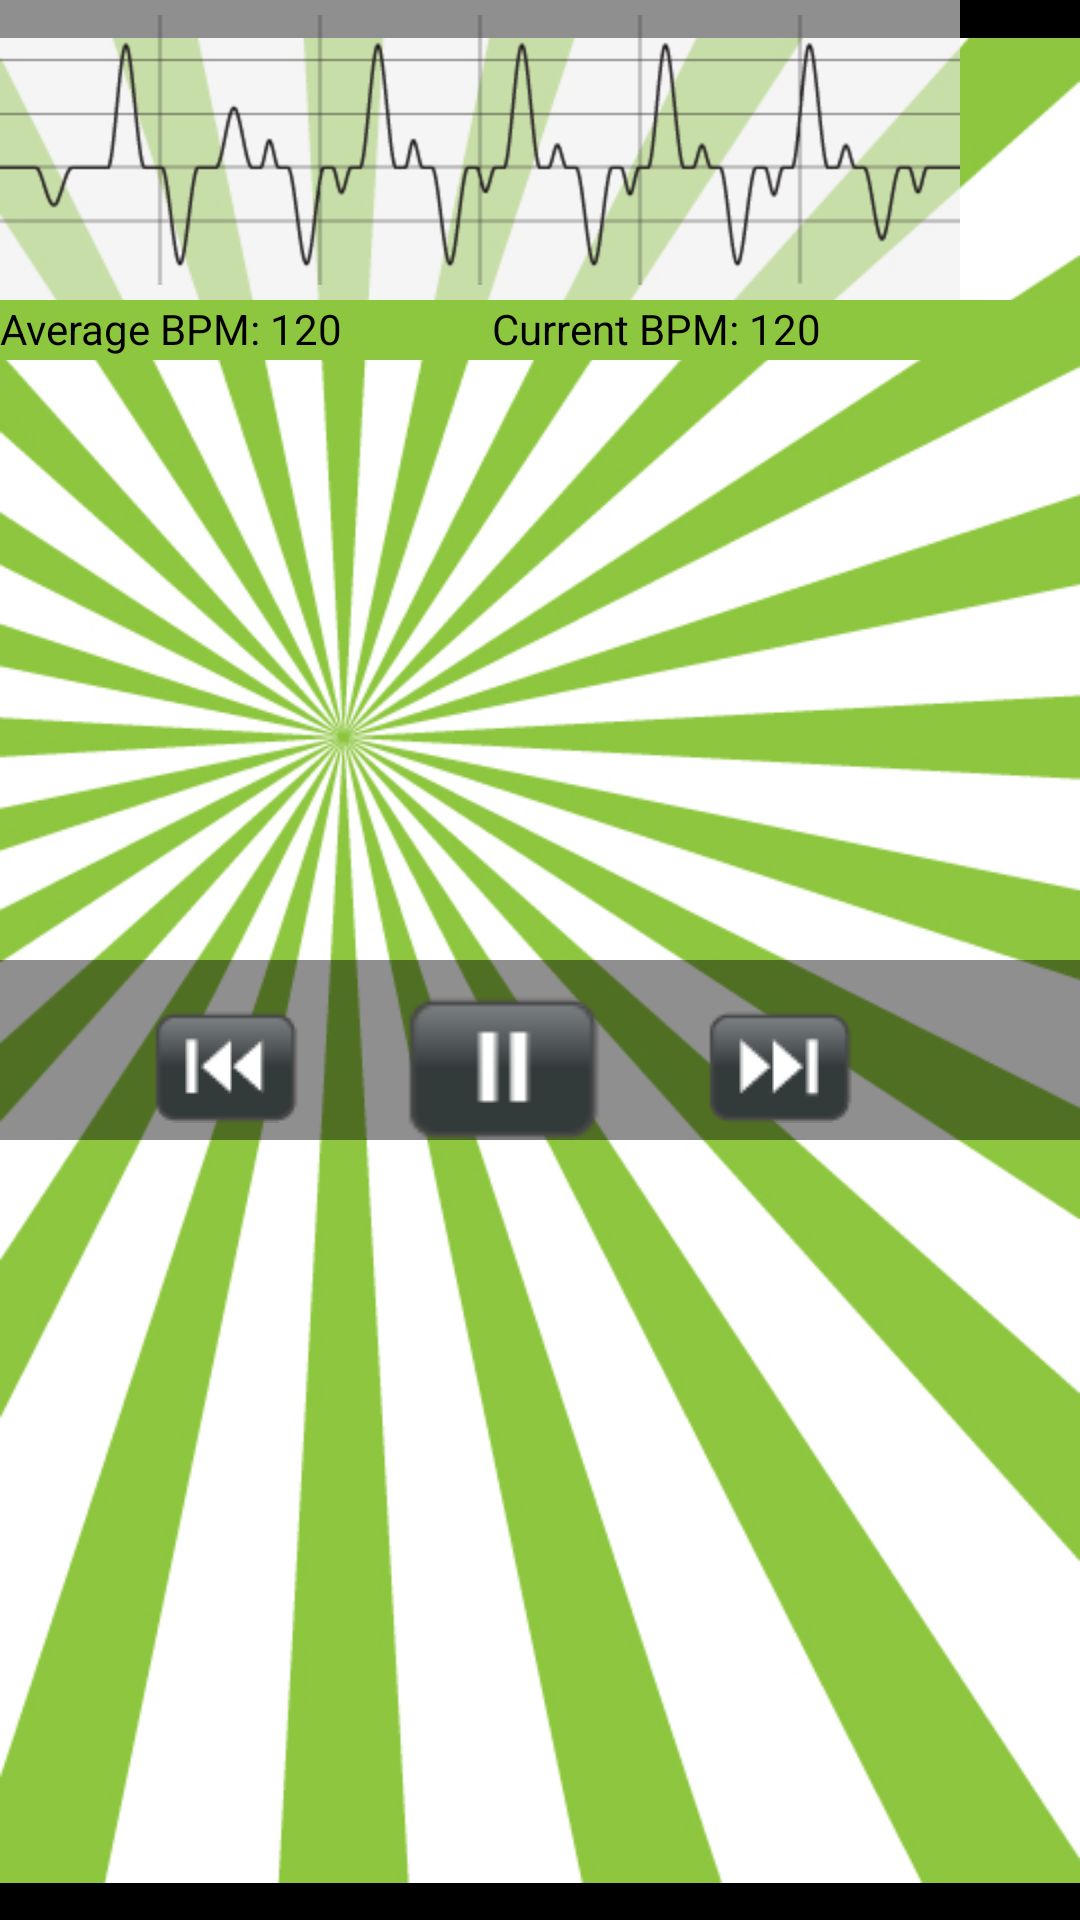

Named icons in this screenshot (1080px x 1920px) and their centers, [x,y]:
next track: [779,1064]
pause: [502,1065]
previous track: [223,1064]
